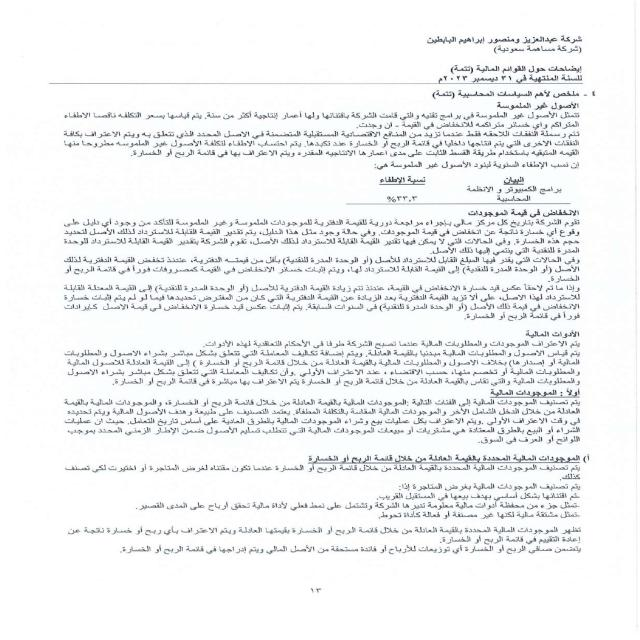notes: (446, 63, 584, 75)
text: (32, 89, 590, 572)
